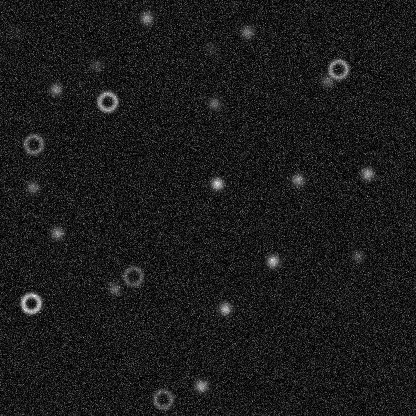Ring: (21, 132, 45, 156), (95, 89, 119, 113), (326, 57, 350, 81), (150, 387, 174, 411), (18, 291, 42, 315), (121, 264, 145, 288)
Spot: (239, 23, 255, 39), (359, 165, 375, 181), (48, 224, 64, 240), (202, 40, 218, 56), (192, 377, 208, 393), (7, 24, 23, 40), (208, 175, 224, 191), (138, 10, 154, 26), (88, 57, 104, 73), (319, 73, 335, 89), (24, 179, 40, 195), (349, 247, 365, 263), (289, 171, 305, 187), (206, 95, 222, 111), (106, 280, 122, 296), (264, 252, 280, 268), (47, 81, 63, 97), (216, 300, 232, 316)
